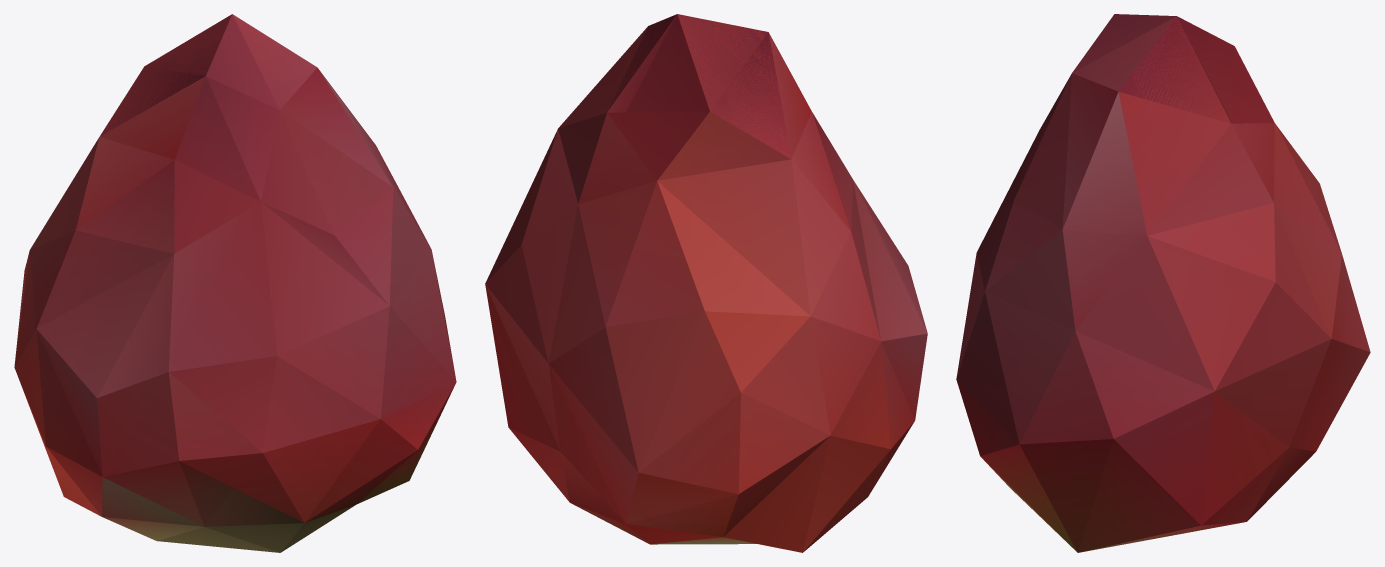
The picture shows the model from 3 angles, left to right: view 1: azimuth 30°, elevation 25°; view 2: azimuth 150°, elevation 25°; view 3: azimuth 270°, elevation 25°; orthographic projection. The views are drawn at different scales.
Visible parts, largest first — view 1: strawberry_01_collision; view 2: strawberry_01_collision; view 3: strawberry_01_collision.
Part boxes in pixels (x1,y1,x2,y2): strawberry_01_collision: (14, 14, 456, 552); strawberry_01_collision: (485, 14, 927, 552); strawberry_01_collision: (956, 14, 1370, 552).
Size of the model in its own units: 0.8036 by 0.7467 by 1.01.
